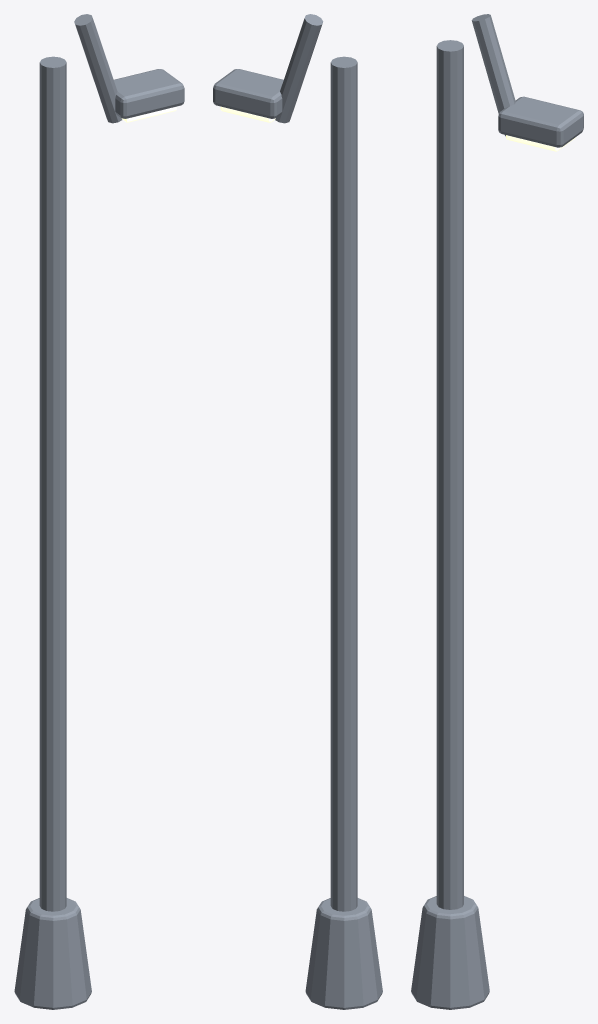
File: street-lamp.glb
3 renders of one model, left to right at view 1: azimuth 30°, elevation 25°; view 2: azimuth 150°, elevation 25°; view 3: azimuth 330°, elevation 25°, orthographic.
Visible parts, largest first — view 1: base; view 2: base; view 3: base.
Boxes of the visible parts, x1,y1,x2,y2 form: base: [14, 14, 184, 1009]; base: [213, 14, 382, 1009]; base: [411, 14, 583, 1009].
Size of the model in its own units: 0.7282 by 4.37 by 0.3164.
